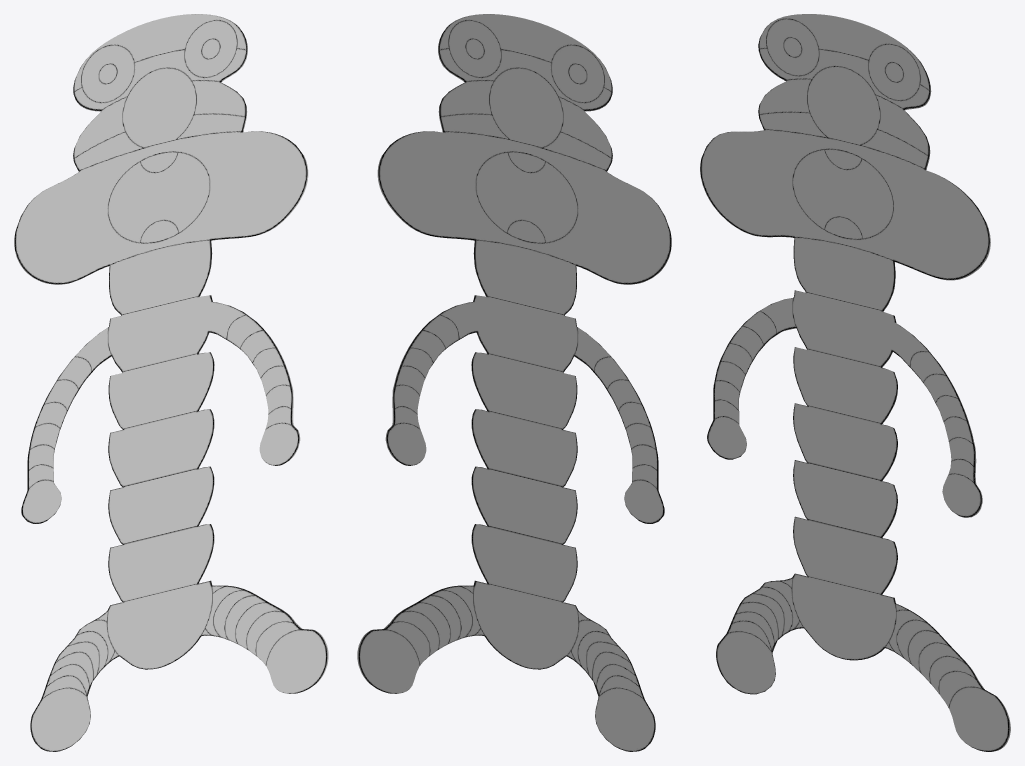
The model's file is 13_jaga_fix.fbx.
3 views of the same model, side by side, from view 1: azimuth 30°, elevation 25°; view 2: azimuth 150°, elevation 25°; view 3: azimuth 330°, elevation 25° (orthographic).
Visible parts, largest first — view 1: planarTrimmedSurface29; view 2: planarTrimmedSurface29; view 3: planarTrimmedSurface29.
Part boxes in pixels (bbox=[...]): planarTrimmedSurface29: bbox=[14, 14, 328, 751]; planarTrimmedSurface29: bbox=[357, 14, 671, 751]; planarTrimmedSurface29: bbox=[700, 14, 1010, 751].
Size of the model in its own units: 6.4 by 13.76 by 2.24e-06.
Materials: 1 (1 with a texture image).
